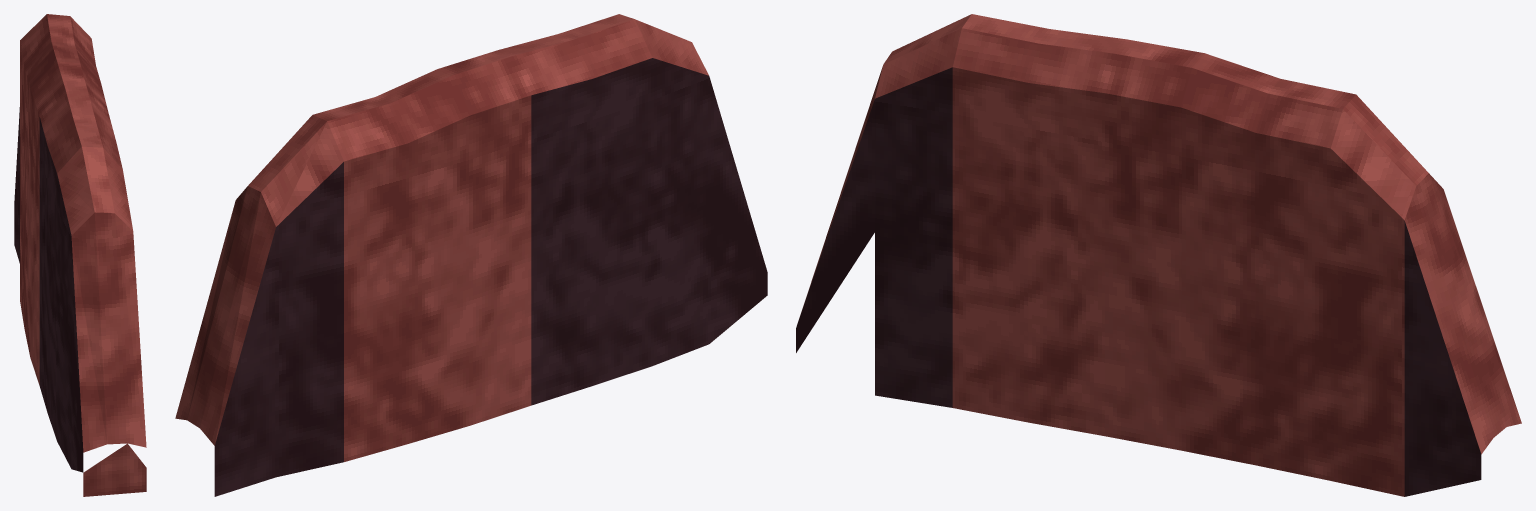
File: map_base_lip204.glb
3 renders of one model, left to right at view 1: azimuth 30°, elevation 25°; view 2: azimuth 150°, elevation 25°; view 3: azimuth 270°, elevation 25°, orthographic. The views are drawn at different scales.
Visible parts, largest first — view 1: MapBaseLip204Rock; view 2: MapBaseLip204Rock; view 3: MapBaseLip204Rock.
Part boxes in pixels (left/top/right/bottom): MapBaseLip204Rock: left=14, top=14, right=146, bottom=496; MapBaseLip204Rock: left=175, top=14, right=767, bottom=496; MapBaseLip204Rock: left=796, top=14, right=1521, bottom=496.
Size of what is drawn, in the model's own units: 3.94 by 4.34 by 7.61.
Materials: 2 (2 with a texture image).
